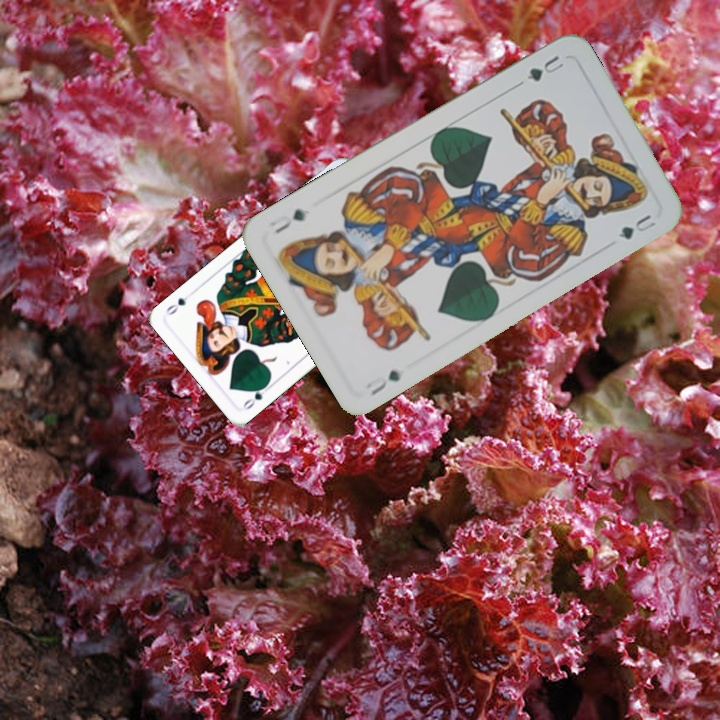GO: (239, 380, 273, 413)
GU: (522, 51, 567, 84), (361, 365, 403, 398)
